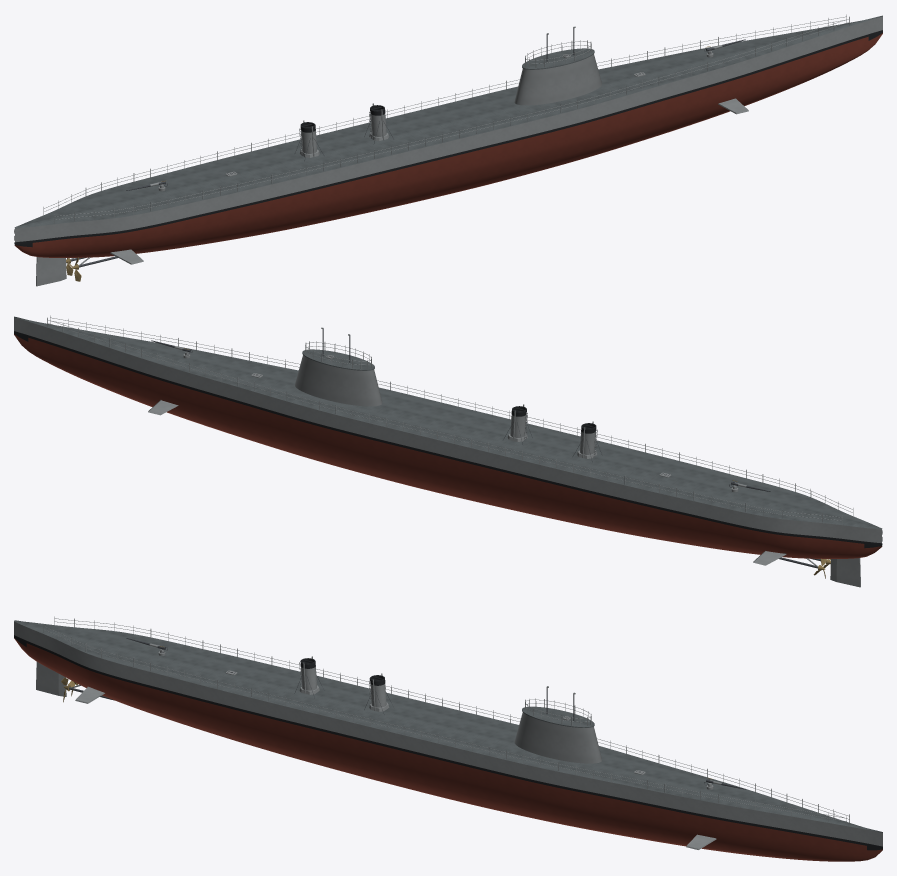
Rendered from k_class_ss_rn.glb.
The picture shows the model from 3 angles, top to bottom: view 1: azimuth 30°, elevation 25°; view 2: azimuth 150°, elevation 25°; view 3: azimuth 330°, elevation 25°; orthographic projection.
Visible parts, largest first — view 1: K class (steam submarine); view 2: K class (steam submarine); view 3: K class (steam submarine).
Part boxes in pixels (box(x1,y1,x2,y2)): K class (steam submarine): box(14, 14, 882, 286); K class (steam submarine): box(14, 315, 882, 587); K class (steam submarine): box(14, 616, 882, 861).
Bounding box in the file's own units: 103 × 14.99 × 11.53.
Materials: 6 (6 with a texture image).
